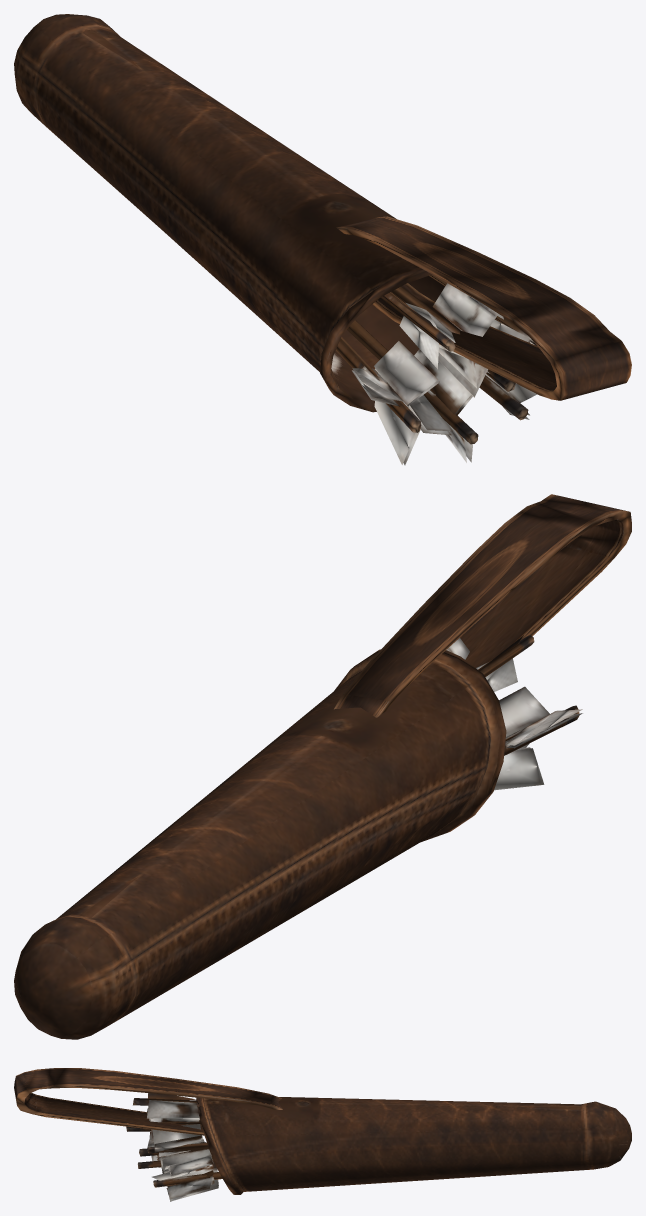
File: mm8_m416_quiver.glb
The picture shows the model from 3 angles, top to bottom: view 1: azimuth 30°, elevation 25°; view 2: azimuth 150°, elevation 25°; view 3: azimuth 270°, elevation 25°; orthographic projection. The views are drawn at different scales.
Visible parts, largest first — view 1: Quiver; view 2: Quiver; view 3: Quiver.
Boxes of the visible parts, bbox=[...] form: Quiver: bbox=[14, 14, 631, 465]; Quiver: bbox=[14, 494, 631, 1039]; Quiver: bbox=[14, 1068, 631, 1201].
Bounding box in the file's own units: 0.1228 × 0.1198 × 0.5523.
1 material, 1 textured.
